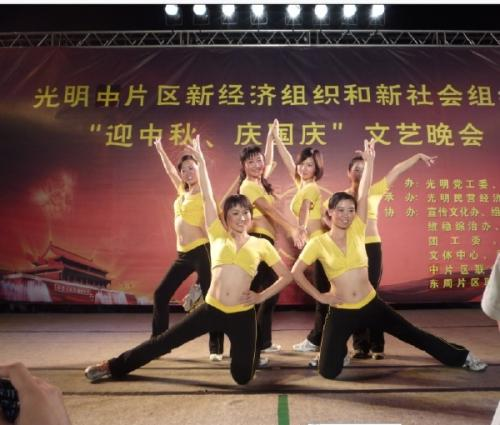no_mask: (321, 189, 356, 231), (220, 194, 253, 237), (291, 146, 327, 183), (237, 144, 268, 180), (172, 149, 202, 186), (344, 158, 369, 185)
